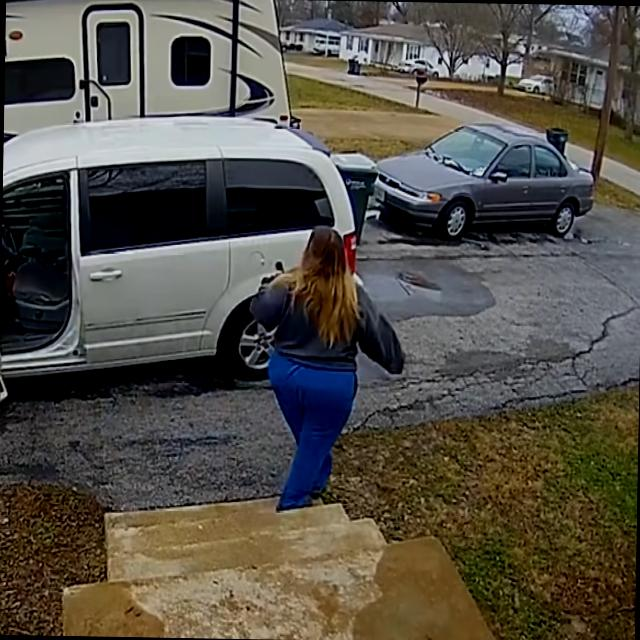person: (247, 226, 408, 511)
